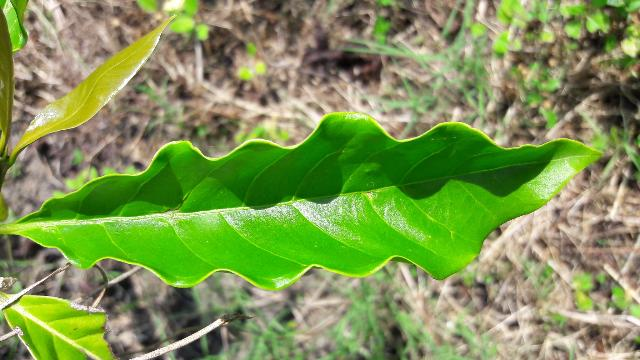healthy: (1, 117, 605, 290)
